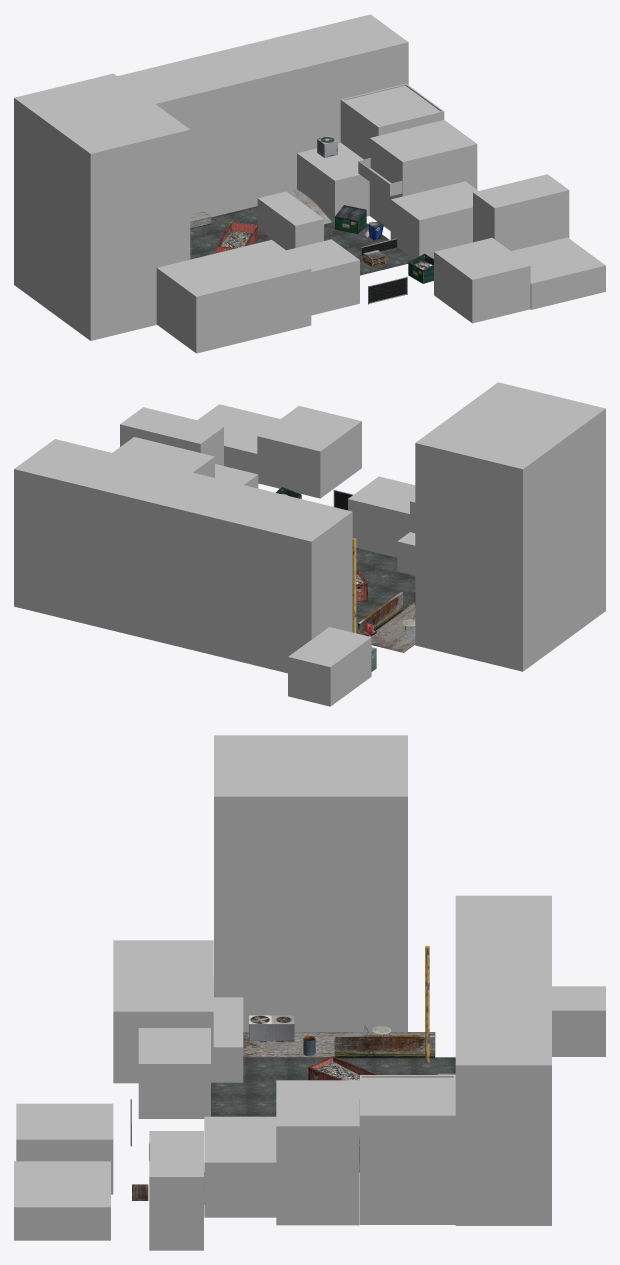
Rendered from cityAssets001.fbx.
The picture shows the model from 3 angles, top to bottom: view 1: azimuth 30°, elevation 25°; view 2: azimuth 150°, elevation 25°; view 3: azimuth 270°, elevation 25°; orthographic projection. The views are drawn at different scales.
Parts seen in each view (by area): view 1: aptBuild1, warehouse1, derelictWarehouse, building1, apt2, apt3, apt1, building2, smallWarehouse1, modernApt2, street1, truck1 (+5 smaller); view 2: warehouse1, aptBuild1, apt3, shop1, modernApt2, apt1, smallWarehouse1, street1, apt2, patio, derelictWarehouse, wall1 (+2 smaller); view 3: aptBuild1, warehouse1, building1, derelictWarehouse, apt2, smallWarehouse1, building2, modernApt2, apt1, apt3, street1, shop1 (+4 smaller).
Part boxes in pixels (x1,y1,x2,y2): aptBuild1: [14, 73, 190, 340]; warehouse1: [117, 14, 408, 217]; derelictWarehouse: [156, 240, 311, 353]; building1: [297, 83, 444, 223]; apt2: [369, 120, 477, 230]; apt3: [434, 237, 530, 323]; apt1: [473, 174, 569, 251]; building2: [390, 181, 477, 259]; smallWarehouse1: [511, 237, 605, 309]; modernApt2: [286, 239, 359, 315]; street1: [190, 206, 413, 275]; truck1: [257, 191, 323, 249]; warehouse1: [14, 439, 352, 673]; aptBuild1: [415, 382, 605, 671]; apt3: [257, 406, 361, 498]; shop1: [288, 627, 371, 706]; modernApt2: [348, 476, 415, 557]; apt1: [120, 407, 223, 465]; smallWarehouse1: [197, 404, 280, 473]; street1: [356, 548, 415, 633]; apt2: [112, 437, 214, 477]; patio: [368, 602, 415, 652]; derelictWarehouse: [397, 498, 415, 575]; wall1: [358, 592, 402, 635]; aptBuild1: [214, 735, 407, 1032]; warehouse1: [455, 895, 551, 1225]; building1: [360, 1075, 455, 1224]; derelictWarehouse: [113, 940, 243, 1083]; apt2: [276, 1080, 359, 1225]; smallWarehouse1: [14, 1161, 110, 1240]; building2: [204, 1116, 276, 1217]; modernApt2: [138, 1028, 210, 1118]; apt1: [149, 1131, 203, 1250]; apt3: [16, 1103, 113, 1194]; street1: [211, 1057, 455, 1172]; shop1: [552, 986, 605, 1056].
Size of the model in its own units: 618 by 284 by 553.
